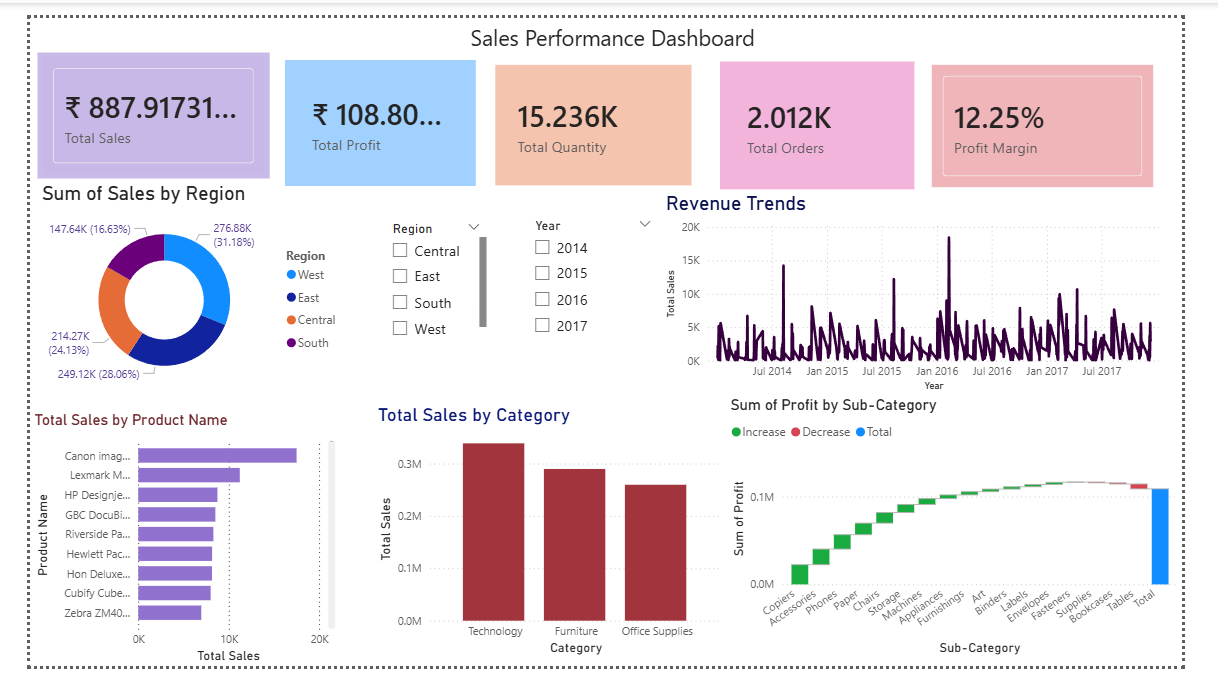

This screenshot's page, from the dashboard's own definition file:
{"tool":"powerbi","page":{"name":"Page 1","canvas":[1280,720],"ordinal":0},"visuals":[{"type":"lineChart","title":"     Revenue Trends","fields":{"Y":["Sample - Superstore.Total Sales"],"Category":["Sample - Superstore.Order Date.Variation.Date Hierarchy.Year","Sample - Superstore.Order Date.Variation.Date Hierarchy.Month","Sample - Superstore.Order Date.Variation.Date Hierarchy.Day"]},"box":[702,194,570,226],"z":0},{"type":"clusteredBarChart","fields":{"Category":["Sample - Superstore.Product Name"],"Y":["Sample - Superstore.Total Sales"]},"box":[0,436,344,284],"z":1000},{"type":"clusteredColumnChart","fields":{"Category":["Sample - Superstore.Category"],"Y":["Sample - Superstore.Total Sales"]},"box":[382,428,392,284],"z":2000},{"type":"donutChart","fields":{"Category":["Sample - Superstore.Region"],"Y":["Sum(Sample - Superstore.Sales)"]},"box":[8,182,346,238],"z":3000},{"type":"waterfallChart","fields":{"Category":["Sample - Superstore.Sub-Category"],"Y":["Sum(Sample - Superstore.Profit)"]},"box":[774,420,506,292],"z":4000},{"type":"slicer","fields":{"Values":["Sample - Superstore.Region"]},"box":[390,220,122,140],"z":5000},{"type":"cardVisual","fields":{"Data":["Sample - Superstore.Total Sales"]},"box":[7.8,37.8,257.8,140],"z":6000},{"type":"cardVisual","fields":{"Data":["Sample - Superstore.Total Profit"]},"box":[284,46,212,140],"z":7000},{"type":"cardVisual","fields":{"Data":["Sample - Superstore.Total Quantity"]},"box":[512,46,228,144],"z":8000},{"type":"cardVisual","fields":{"Data":["Sample - Superstore.Total Orders"]},"box":[766,48,216,142],"z":9000},{"type":"cardVisual","fields":{"Data":["Sample - Superstore.Profit Margin"]},"box":[996,46,256,146],"z":10000},{"type":"slicer","fields":{"Values":["Sample - Superstore.Order Date.Variation.Date Hierarchy.Year"]},"box":[548,216,154,152],"z":10001},{"type":"textbox","box":[374.4,0,503.3,46.7],"z":10002}]}

Visuals, with their boxes in screenshot pixels (x1, y1, x2, y2), scaled from the page's 1280x720 canvas onto the 1218x673 screenshot:
"     Revenue Trends" lineChart: pyautogui.locateOnScreen(668, 181, 1210, 393)
clusteredBarChart - Sample - Superstore.Product Name x Sample - Superstore.Total Sales: pyautogui.locateOnScreen(0, 408, 327, 672)
clusteredColumnChart - Sample - Superstore.Category x Sample - Superstore.Total Sales: pyautogui.locateOnScreen(363, 400, 737, 666)
donutChart - Sample - Superstore.Region x Sum(Sample - Superstore.Sales): pyautogui.locateOnScreen(8, 170, 337, 393)
waterfallChart - Sample - Superstore.Sub-Category x Sum(Sample - Superstore.Profit): pyautogui.locateOnScreen(737, 393, 1217, 666)
slicer - Sample - Superstore.Region: pyautogui.locateOnScreen(371, 206, 487, 336)
cardVisual - Sample - Superstore.Total Sales: pyautogui.locateOnScreen(7, 35, 253, 166)
cardVisual - Sample - Superstore.Total Profit: pyautogui.locateOnScreen(270, 43, 472, 174)
cardVisual - Sample - Superstore.Total Quantity: pyautogui.locateOnScreen(487, 43, 704, 178)
cardVisual - Sample - Superstore.Total Orders: pyautogui.locateOnScreen(729, 45, 934, 178)
cardVisual - Sample - Superstore.Profit Margin: pyautogui.locateOnScreen(948, 43, 1191, 179)
slicer - Sample - Superstore.Order Date.Variation.Date Hierarchy.Year: pyautogui.locateOnScreen(521, 202, 668, 344)
textbox: pyautogui.locateOnScreen(356, 0, 835, 44)
